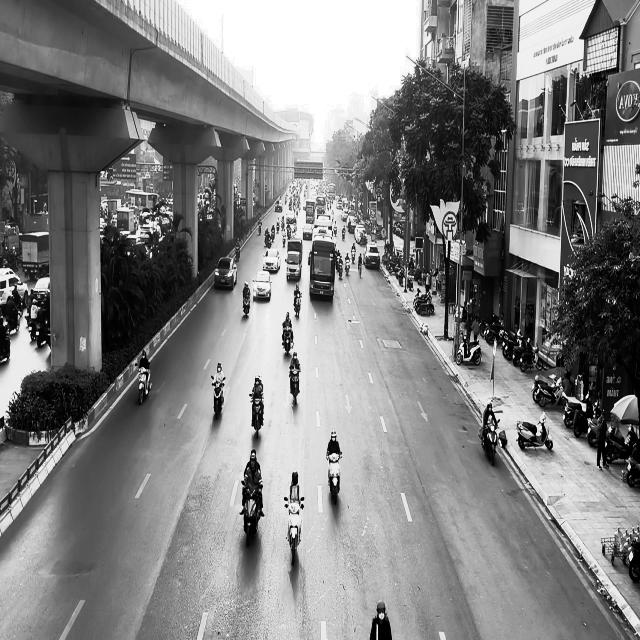car: (215, 256, 238, 290), (252, 270, 272, 301), (263, 248, 281, 272), (364, 243, 380, 269)
motorbike: (516, 412, 554, 451), (284, 497, 304, 565), (242, 484, 263, 546), (479, 418, 502, 466), (456, 334, 482, 365), (327, 452, 342, 504), (135, 362, 152, 405), (250, 394, 265, 438), (211, 375, 226, 418), (289, 367, 301, 405), (282, 324, 294, 355), (293, 291, 302, 317), (243, 289, 251, 315)
